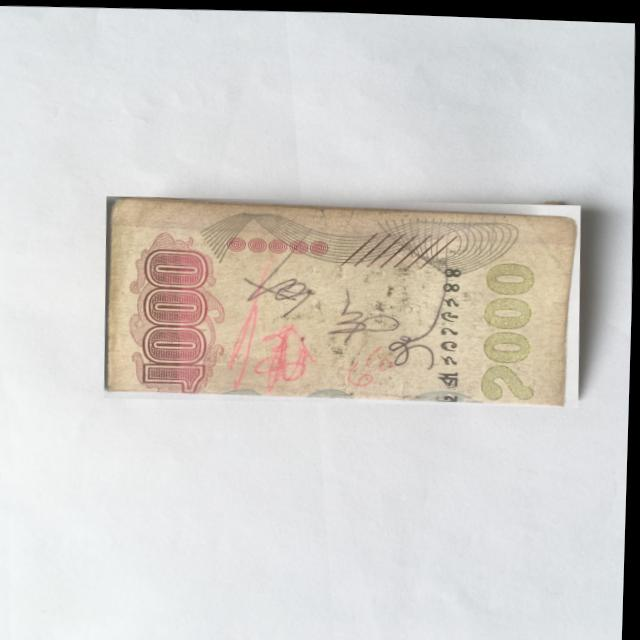Taka: (103, 187, 585, 411)
